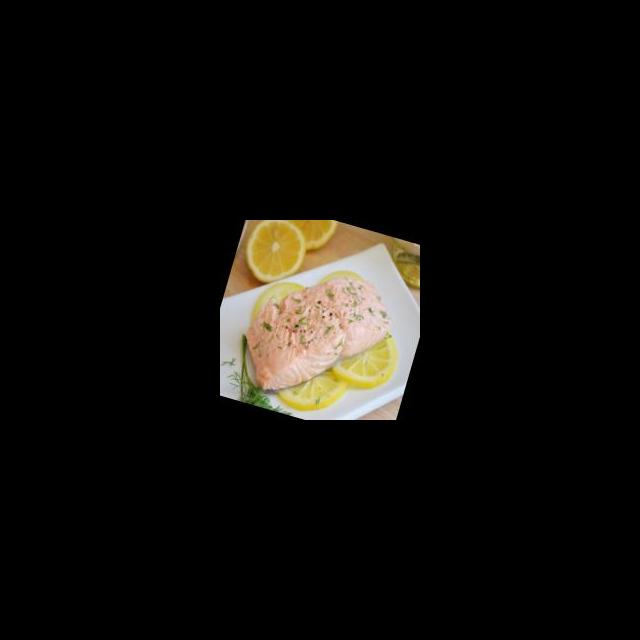ca hoi: (228, 248, 403, 420)
